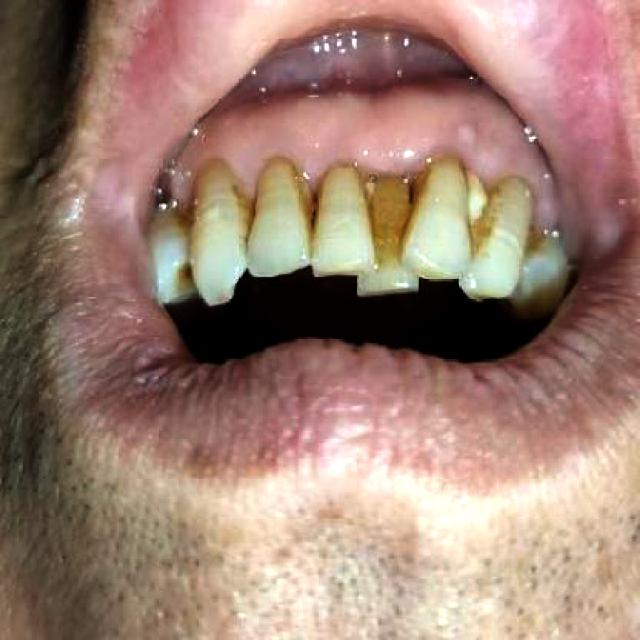Plaque: (162, 90, 555, 238), (180, 266, 196, 288)
